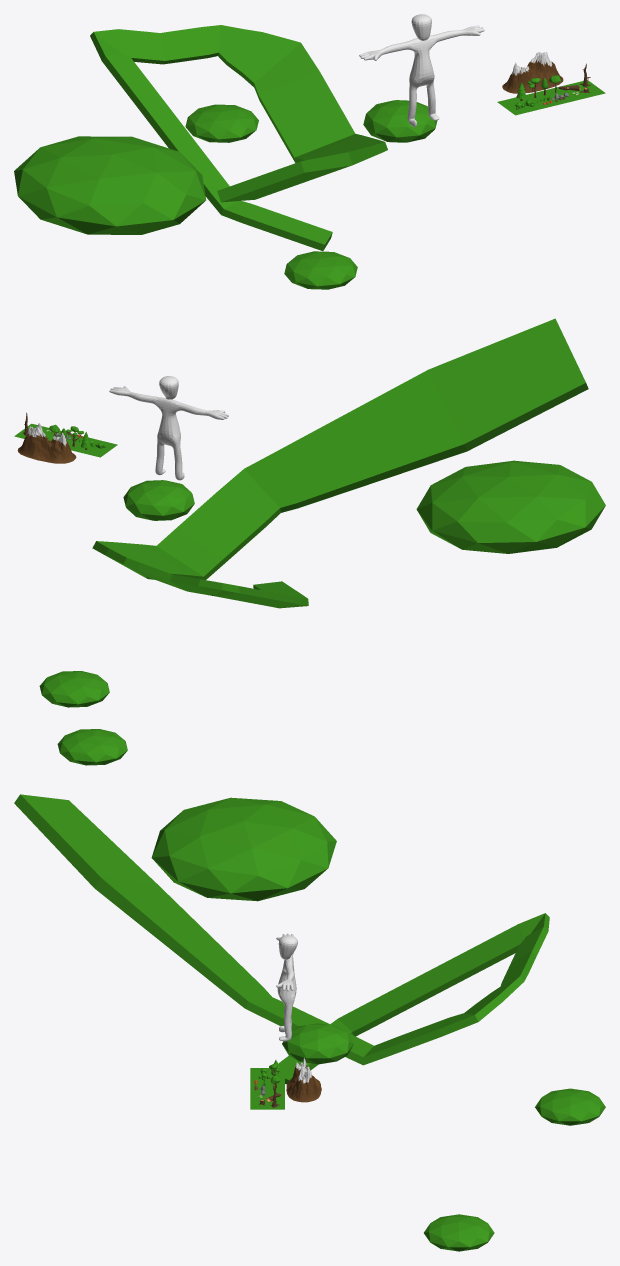
The model's file is florestgrupo.fbx.
3 renders of one model, top to bottom at view 1: azimuth 30°, elevation 25°; view 2: azimuth 150°, elevation 25°; view 3: azimuth 270°, elevation 25°, orthographic. The views are drawn at different scales.
Parts seen in each view (by area): view 1: Plane, Island, Plane.001, Island2, Island4, Island3, Plane.002, Mountains; view 2: Plane, Island, Plane.001, Island2, Island3, Island4, Mountains, Plane.002; view 3: Plane, Island, Island2, Island3, Island4, Plane.001, Plane.002, Mountains.
Part boxes in pixels (bbox=[...]): Plane: bbox=[90, 25, 387, 251]; Island: bbox=[14, 136, 206, 234]; Plane.001: bbox=[359, 14, 484, 127]; Island2: bbox=[363, 100, 437, 142]; Island4: bbox=[284, 251, 357, 289]; Island3: bbox=[185, 104, 258, 142]; Plane.002: bbox=[497, 80, 605, 115]; Mountains: bbox=[502, 52, 563, 93]; Plane: bbox=[92, 318, 588, 608]; Island: bbox=[416, 460, 605, 553]; Plane.001: bbox=[109, 376, 228, 480]; Island2: bbox=[123, 480, 194, 520]; Island3: bbox=[39, 671, 109, 707]; Island4: bbox=[57, 729, 127, 765]; Mountains: bbox=[17, 423, 76, 463]; Plane.002: bbox=[14, 423, 117, 457]; Plane: bbox=[14, 794, 549, 1084]; Island: bbox=[151, 797, 336, 901]; Island2: bbox=[282, 1023, 353, 1064]; Island3: bbox=[535, 1088, 605, 1125]; Island4: bbox=[424, 1214, 494, 1251]; Plane.001: bbox=[276, 933, 297, 1041]; Plane.002: bbox=[250, 1068, 284, 1109]; Mountains: bbox=[286, 1057, 321, 1102].
Bounding box in the file's own units: 4118 × 2374 × 3822.
